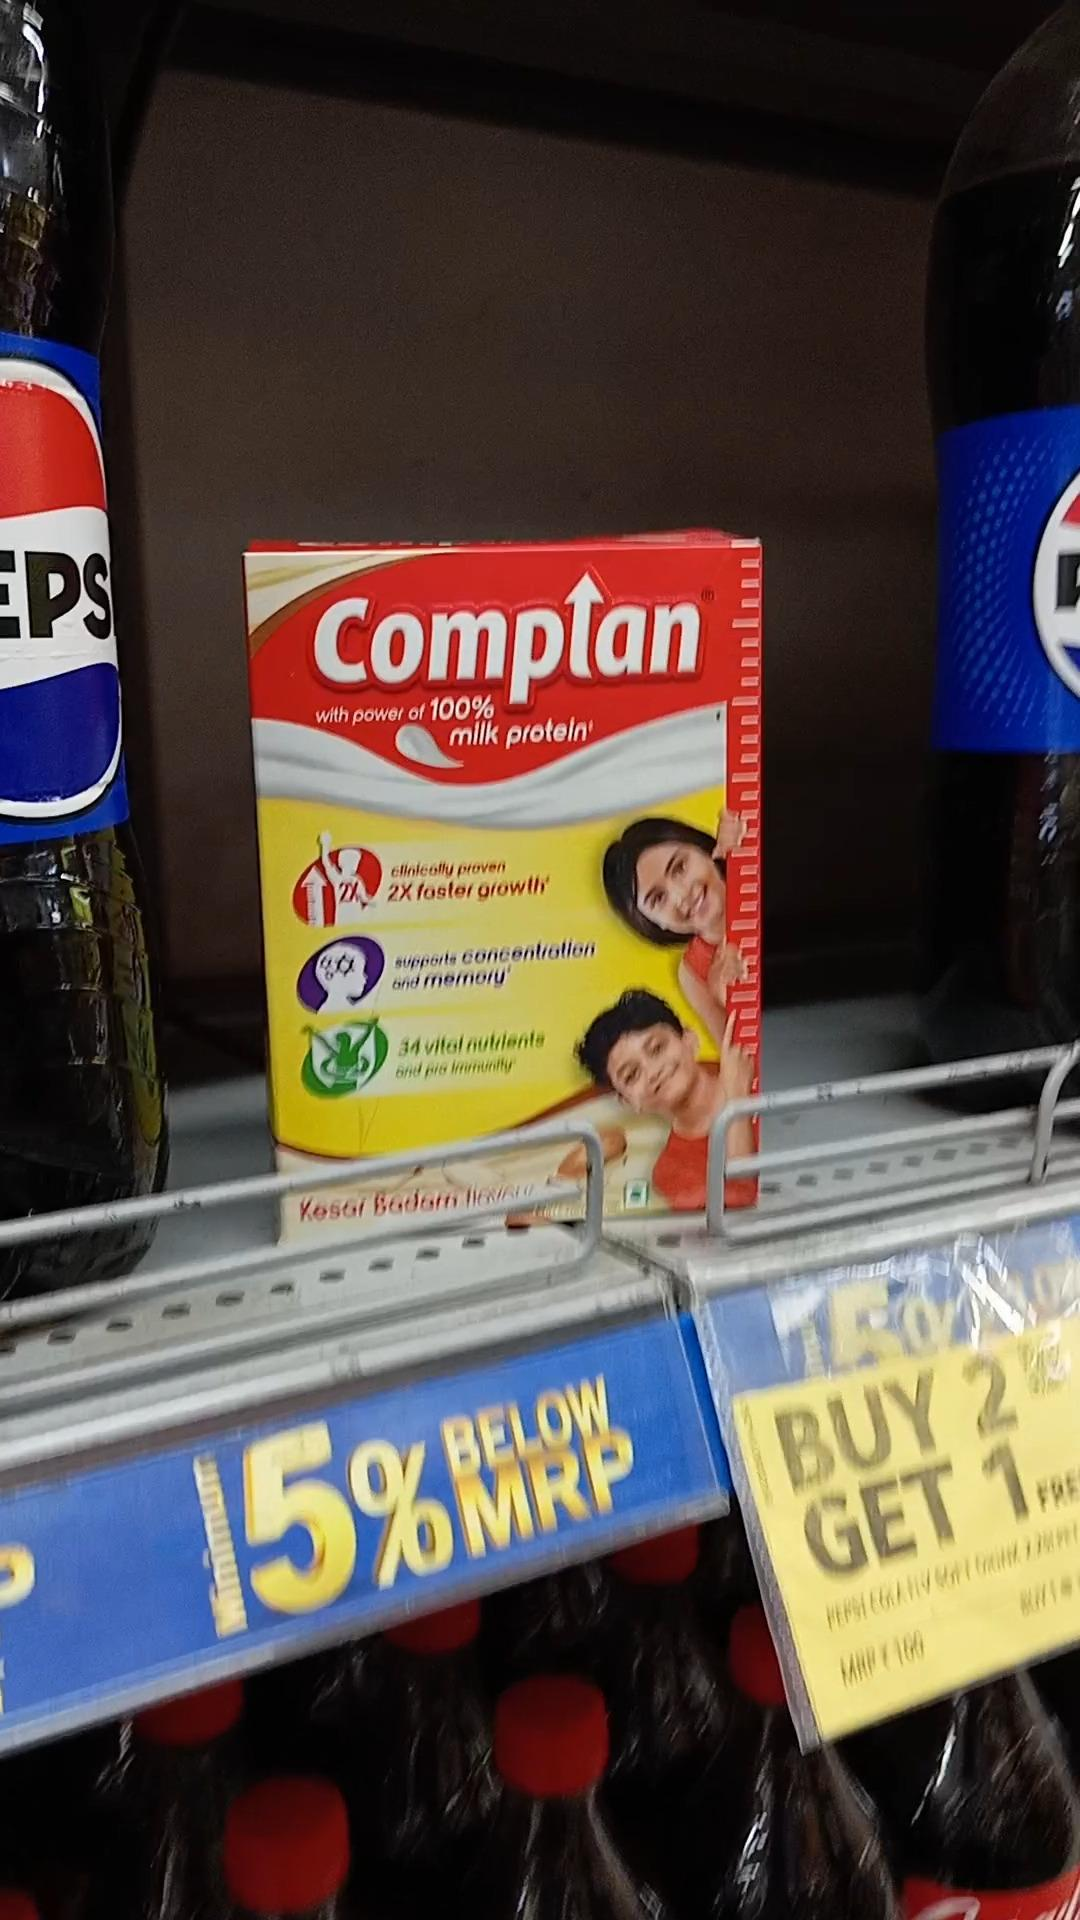COMPLAN_CHOCOLATE_200_GMS_JAR: (269, 558, 773, 1226)
